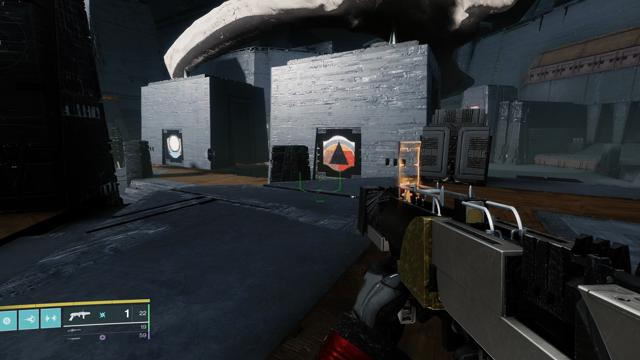pyramid: (323, 135, 355, 172)
traveler: (167, 134, 182, 158)
